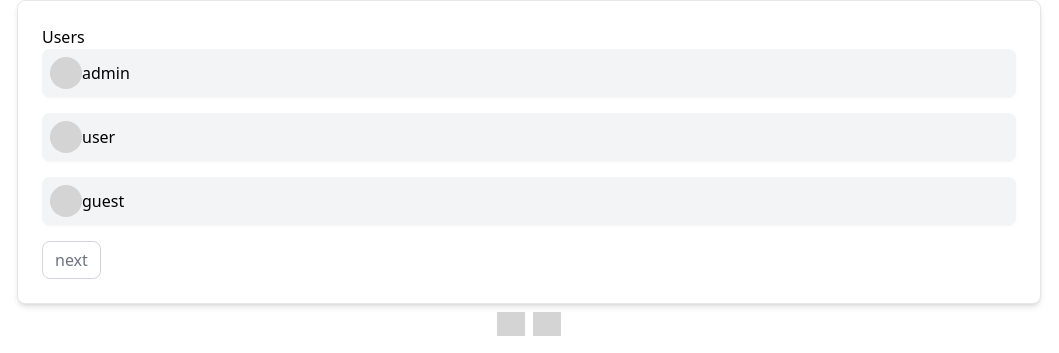
UserList › interactions › should displays previous page after click on previous page link
Click the button "next" at (71, 260), box [42,241,101,279]
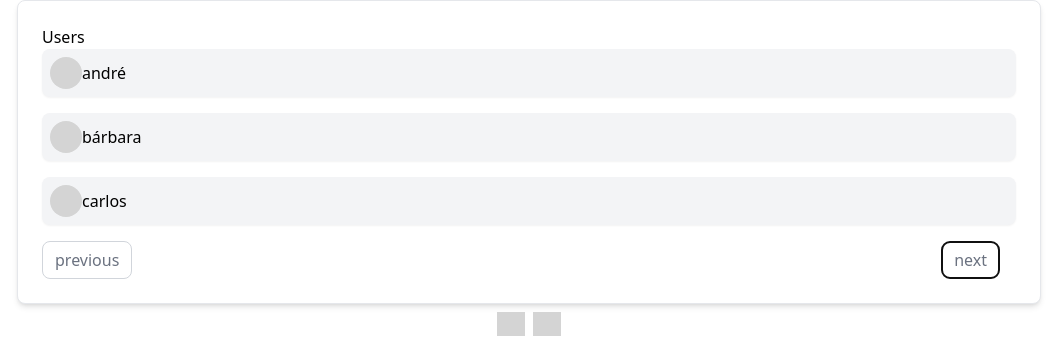
Click the button "previous" at (87, 260), box [42,241,132,279]
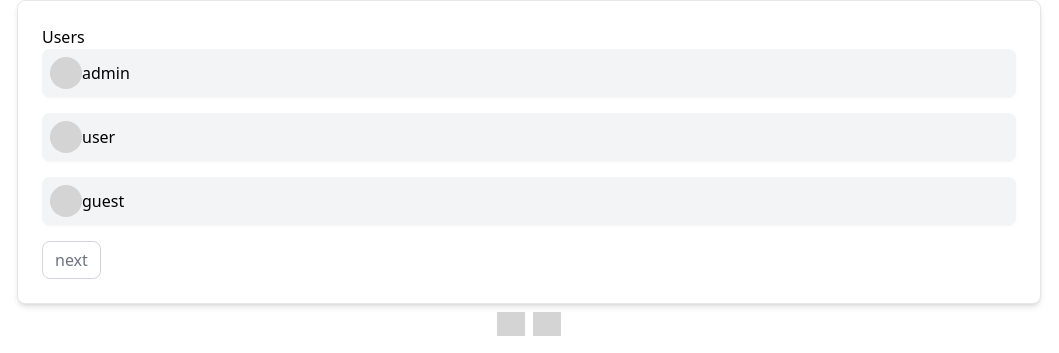
Check: the list item "admin" is shown, box [42,49,1016,97]
